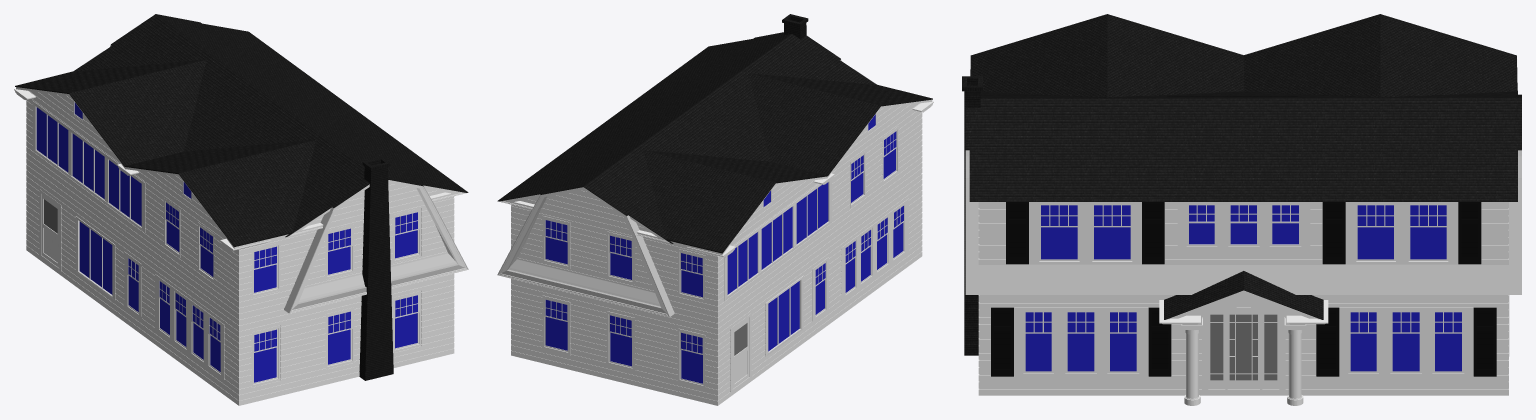
The model's file is LP house obj.obj.
3 views of the same model, side by side, from view 1: azimuth 30°, elevation 25°; view 2: azimuth 150°, elevation 25°; view 3: azimuth 270°, elevation 25° (orthographic). The views are drawn at different scales.
Bounding box in the file's own units: 4067 × 3156 × 6049.
